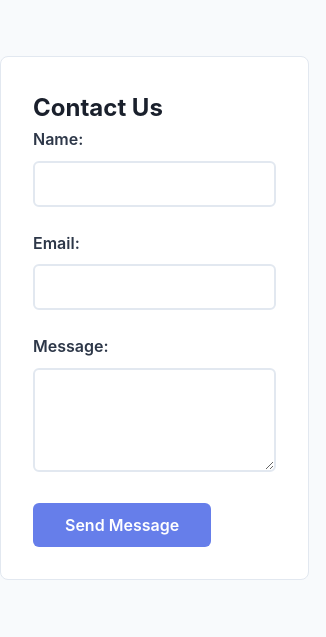
Test case: ContactForm Component › clears errors when user starts typing
This screenshot has width=326, height=637.
Click the button "Send Message" at [122, 525], box left=33, top=503, right=211, bottom=547
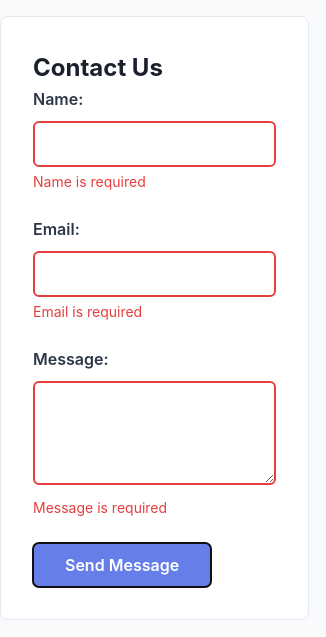
Expected: the text "Name is required" is shown, left=33, top=173, right=146, bottom=190
# USER EXPERIENCE TESTING: Verify errors clear when user starts fixing them
Type "John" into the field labelled "Name:" at [154, 144], box left=33, top=121, right=276, bottom=167
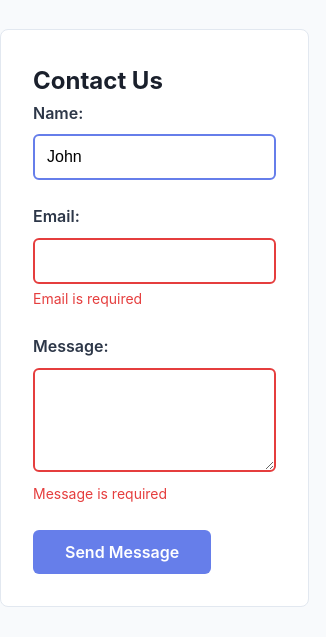
Expected: the text "Name is required" is gone
